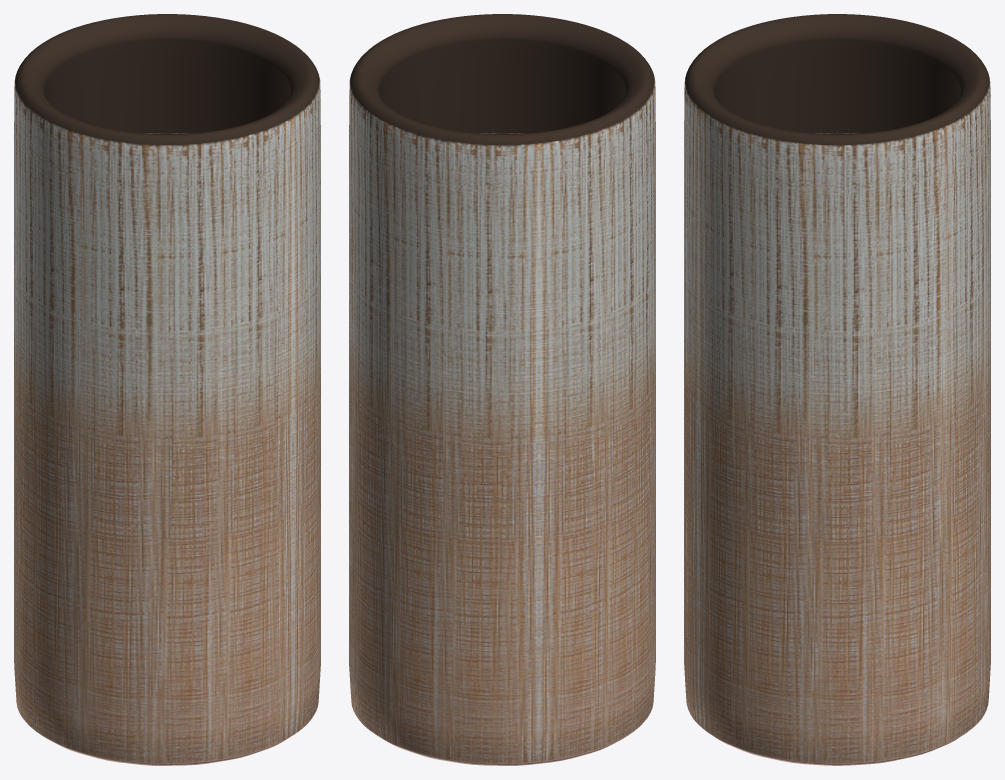
Rendered from planter_B075HWX45W.glb.
3 renders of one model, left to right at view 1: azimuth 30°, elevation 25°; view 2: azimuth 150°, elevation 25°; view 3: azimuth 270°, elevation 25°, orthographic.
Visible parts, largest first — view 1: RootNode; view 2: RootNode; view 3: RootNode.
Part boxes in pixels (box(x1,y1,x2,y2)): RootNode: box(14, 14, 320, 765); RootNode: box(349, 14, 655, 765); RootNode: box(684, 14, 990, 765).
Bounding box in the file's own units: 0.1001 × 0.2273 × 0.1001.
1 material, 1 textured.
